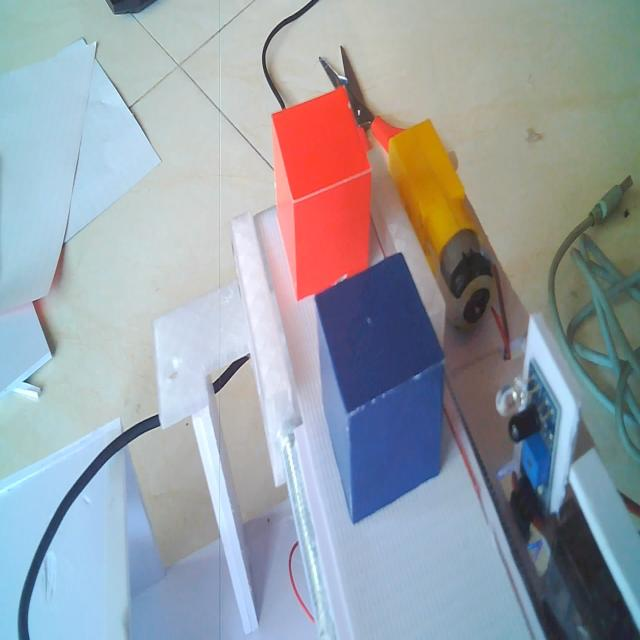blue: (310, 248, 452, 543)
red: (268, 81, 372, 305)
